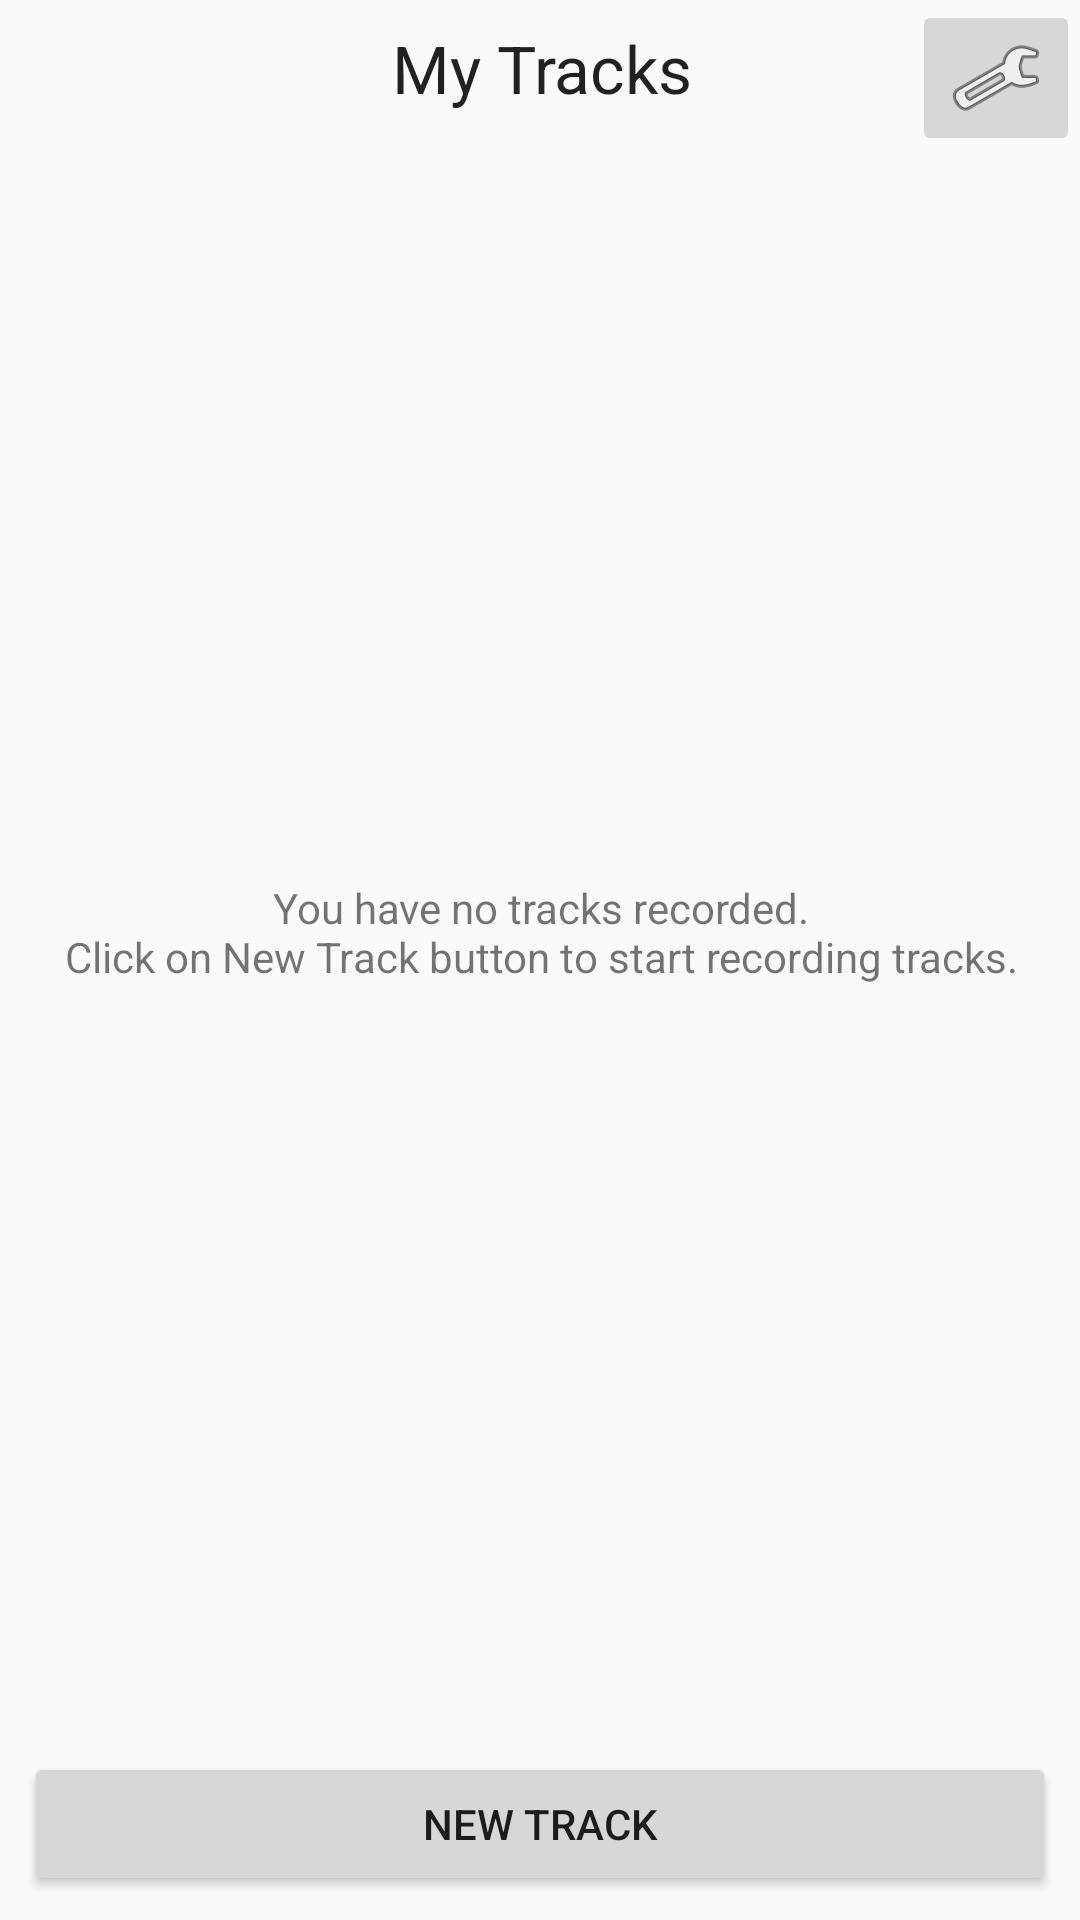

Where to tap for icons on this 1080px×1920px app screen, as (x,y):
manage: (996,78)
